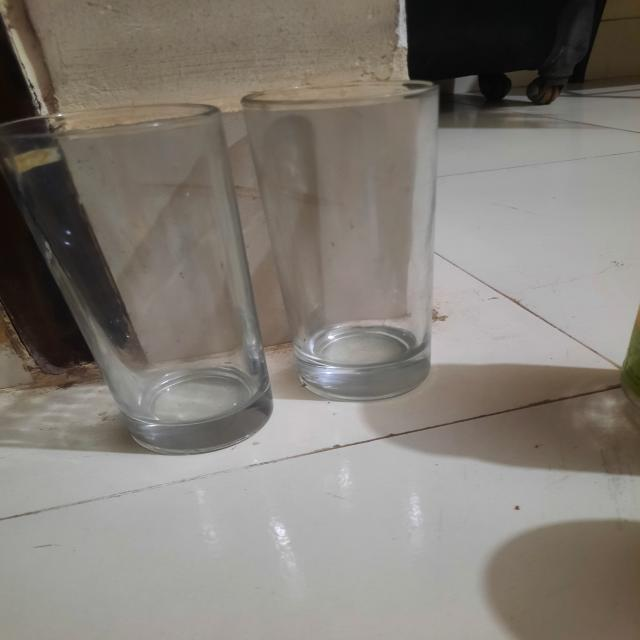Glass: (9, 69, 501, 492)
